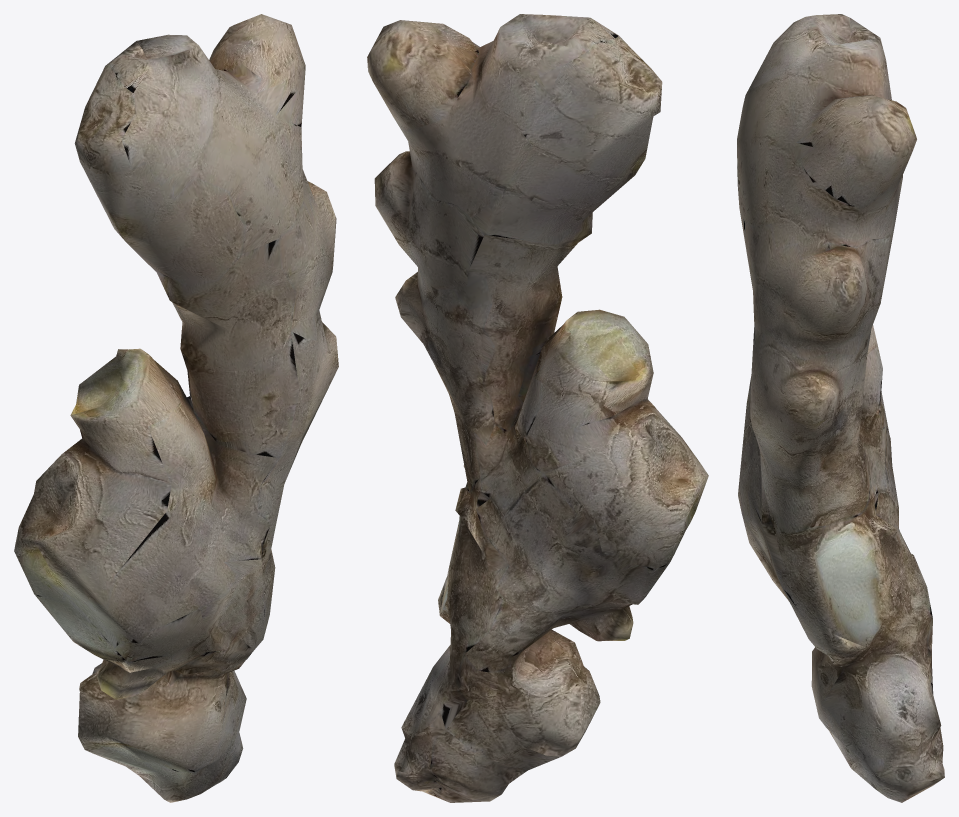
Rendered from food_ginger_01.glb.
3 renders of one model, left to right at view 1: azimuth 30°, elevation 25°; view 2: azimuth 150°, elevation 25°; view 3: azimuth 270°, elevation 25°, orthographic. The views are drawn at different scales.
Visible parts, largest first — view 1: food_ginger_01; view 2: food_ginger_01; view 3: food_ginger_01.
Part boxes in pixels (left/top/right/bottom): food_ginger_01: left=14, top=14, right=338, bottom=802; food_ginger_01: left=367, top=14, right=708, bottom=802; food_ginger_01: left=737, top=14, right=944, bottom=802.
Size of the model in its own units: 0.2398 by 0.5746 by 0.1461.
Materials: 1 (1 with a texture image).
